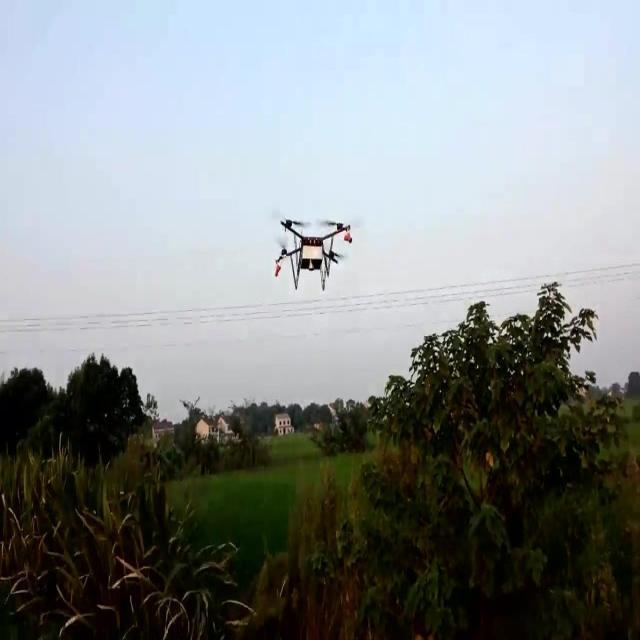drone: (274, 214, 354, 294)
